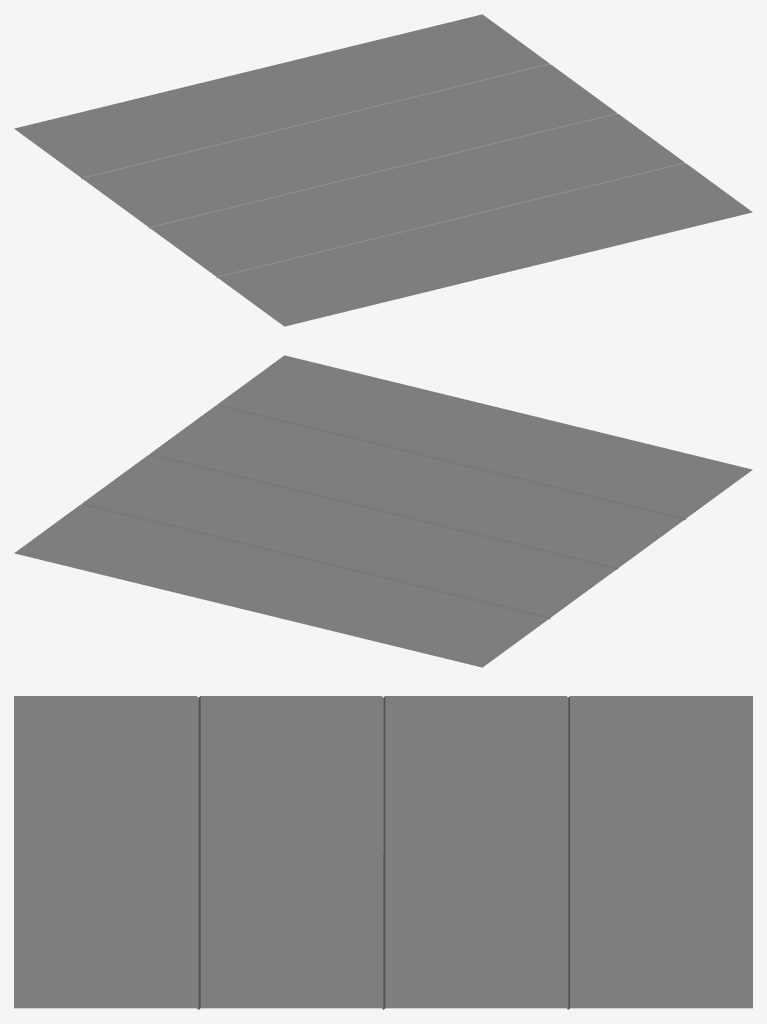
Rendered from builder_7.FBX.
The picture shows the model from 3 angles, top to bottom: view 1: azimuth 30°, elevation 25°; view 2: azimuth 150°, elevation 25°; view 3: azimuth 270°, elevation 25°; orthographic projection. The views are drawn at different scales.
Visible parts, largest first — view 1: builder_7; view 2: builder_7; view 3: builder_7.
Boxes of the visible parts, x1,y1,x2,y2 form: builder_7: (14, 14, 752, 326); builder_7: (14, 355, 752, 667); builder_7: (14, 696, 752, 1009).
Bounding box in the file's own units: 120 × 0.295 × 120.
